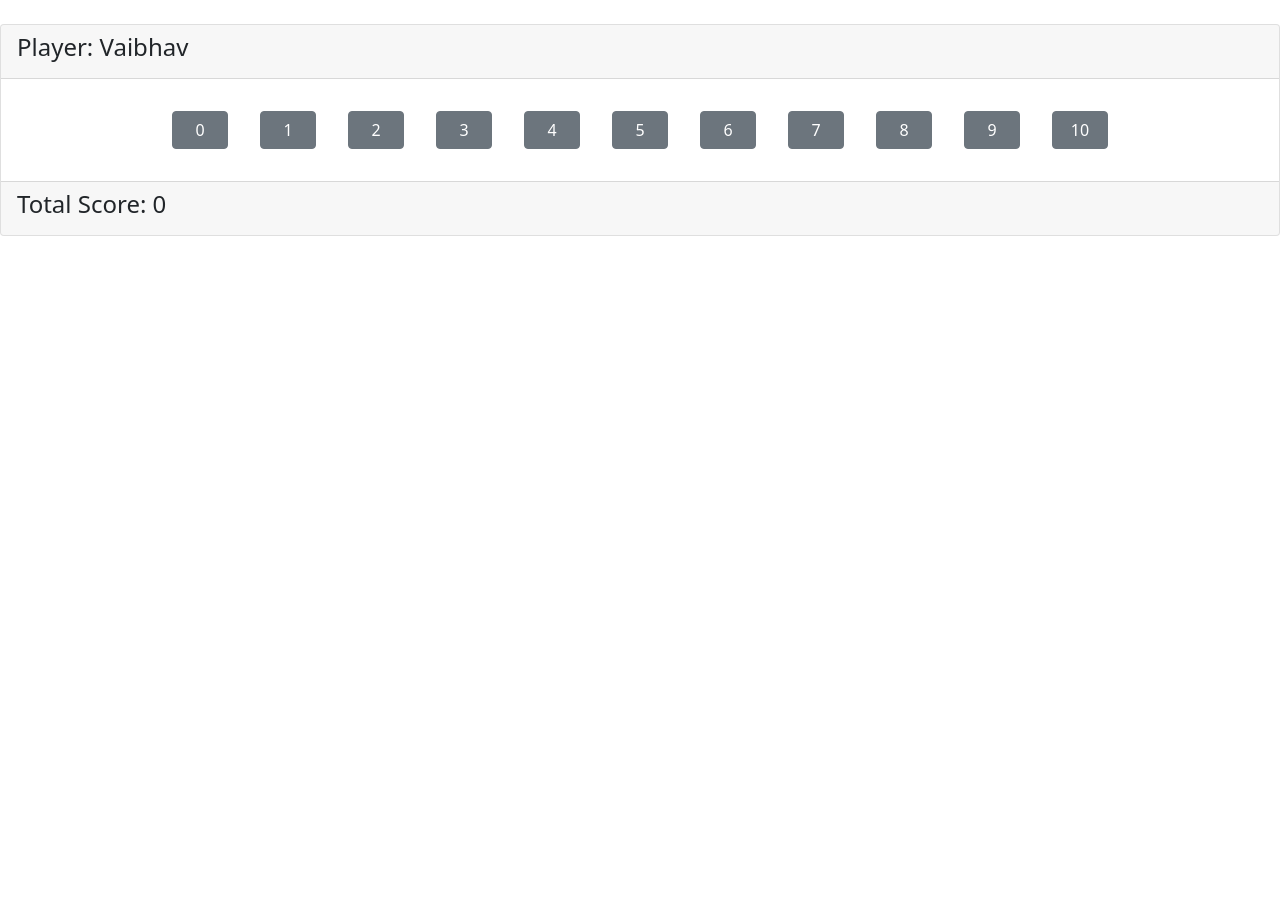
Test: GameCard › should Update Score On Each button Click
Click the button with test id "Vaibhav3" at (464, 130), box [436, 111, 492, 149]
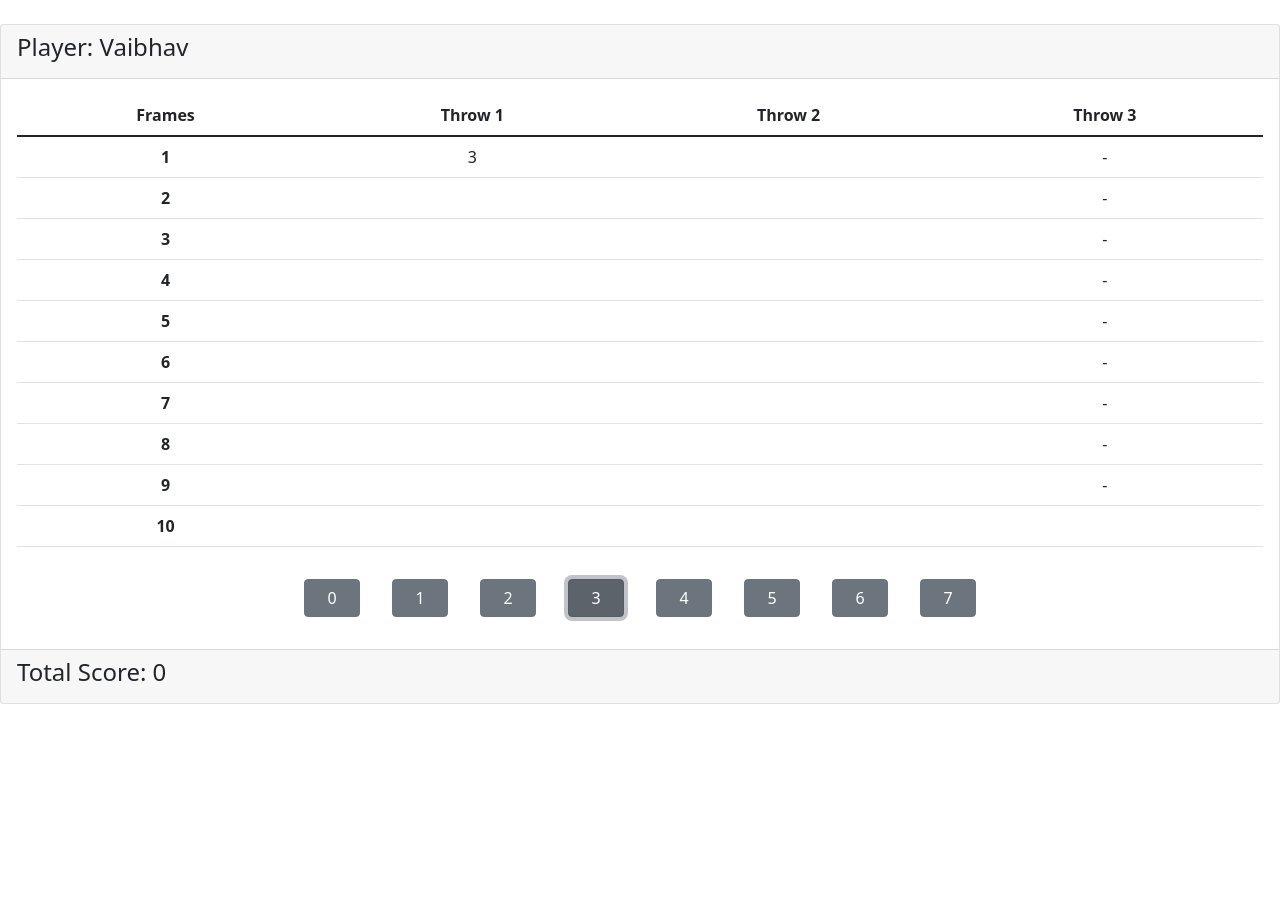
Click the button with test id "Vaibhav2" at (508, 598), box [480, 579, 536, 617]
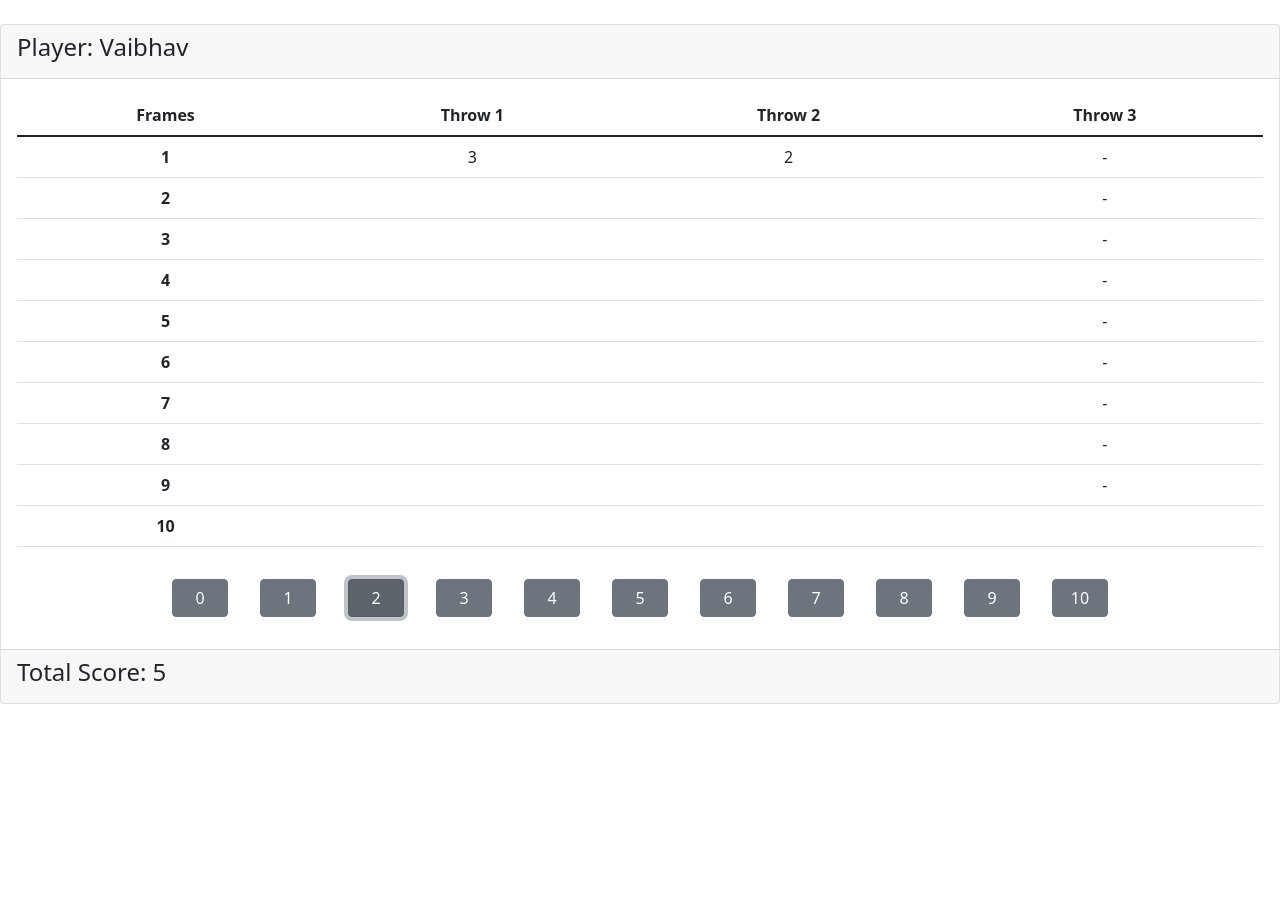
Check: the heading "Total Score: 5" is shown, box [17, 655, 166, 688]
